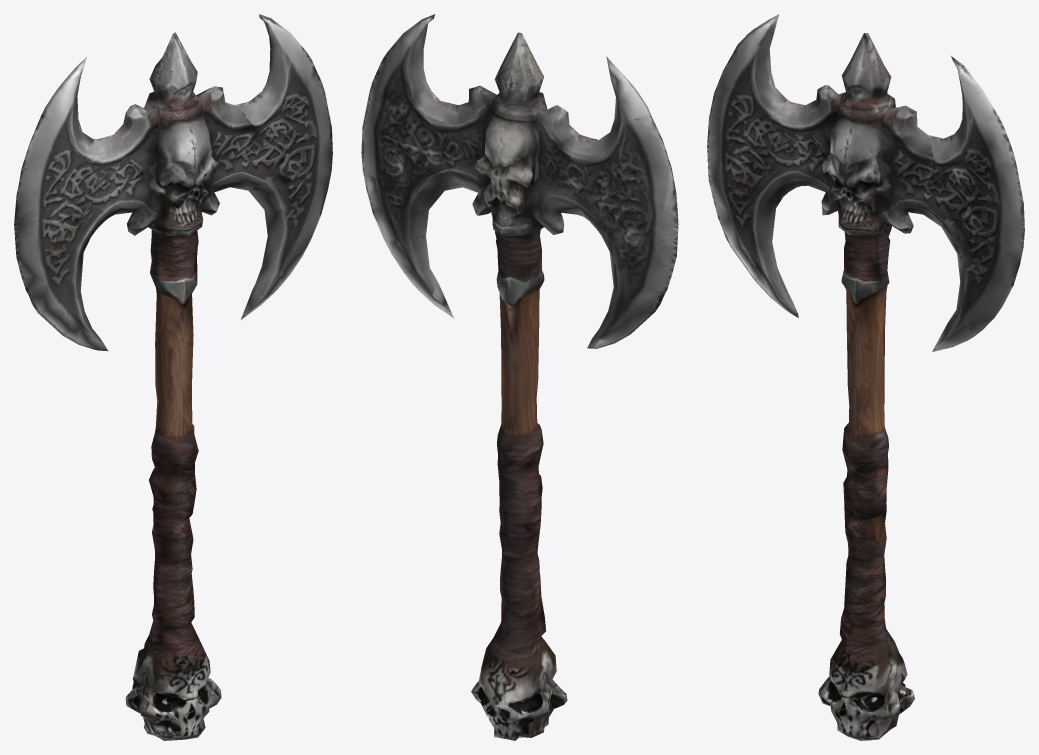
Rendered from 1399_war_axe.glb.
3 renders of one model, left to right at view 1: azimuth 30°, elevation 25°; view 2: azimuth 150°, elevation 25°; view 3: azimuth 330°, elevation 25°, orthographic.
Parts seen in each view (by area): view 1: Model; view 2: Model; view 3: Model.
Part boxes in pixels (box(x1,y1,x2,y2)): Model: box(14, 14, 332, 740); Model: box(361, 14, 678, 740); Model: box(707, 14, 1024, 740).
Bounding box in the file's own units: 0.4778 × 1 × 0.1172.
Materials: 1 (1 with a texture image).
